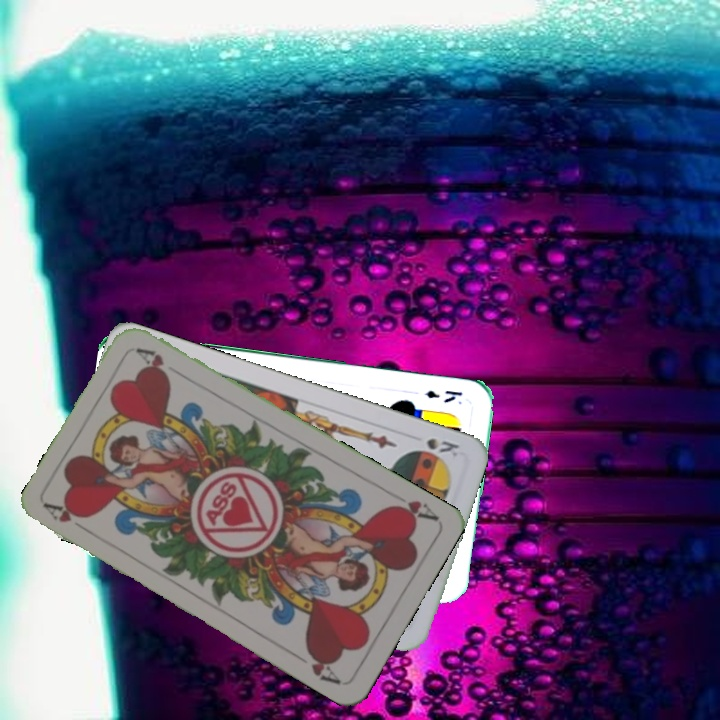EK: (421, 386, 465, 406)
HA: (41, 499, 96, 538), (385, 487, 440, 524)
SK: (422, 433, 462, 460)
